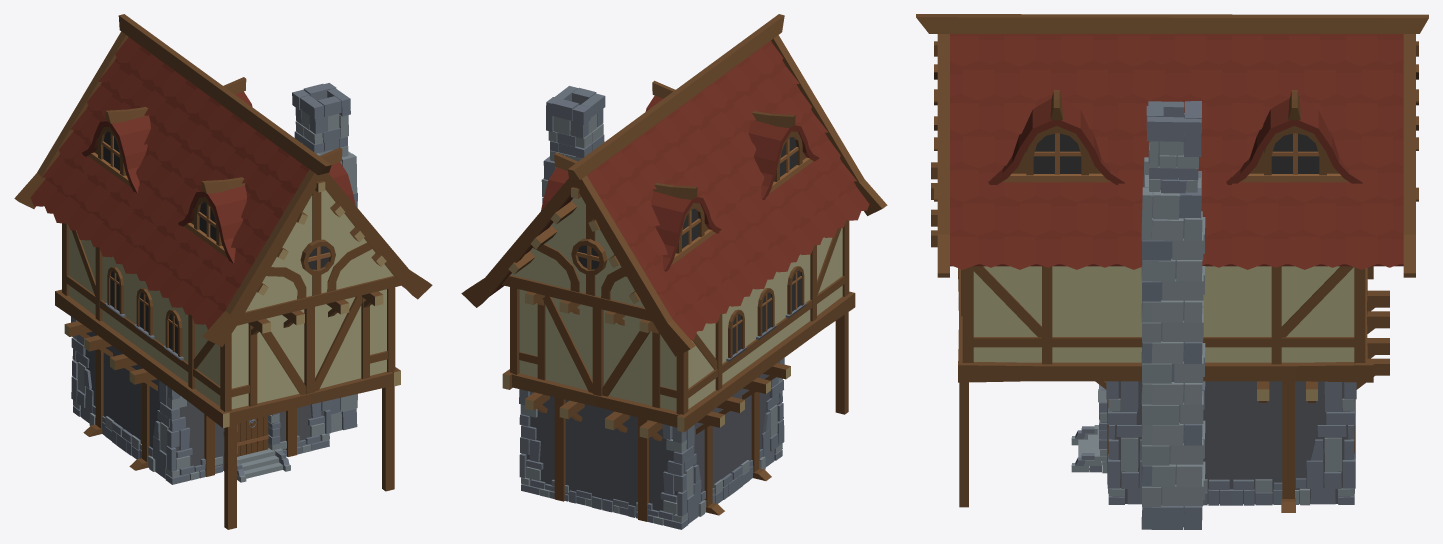
Rendered from house_2.020_lev2.glb.
3 views of the same model, side by side, from view 1: azimuth 30°, elevation 25°; view 2: azimuth 150°, elevation 25°; view 3: azimuth 270°, elevation 25° (orthographic). The views are drawn at different scales.
Visible parts, largest first — view 1: house_2.020_lev2; view 2: house_2.020_lev2; view 3: house_2.020_lev2.
Boxes of the visible parts, <box> form: house_2.020_lev2: <box>14,14,432,529</box>; house_2.020_lev2: <box>461,14,887,529</box>; house_2.020_lev2: <box>916,14,1428,529</box>.
Bounding box in the file's own units: 4.44 × 6.5 × 6.84.
